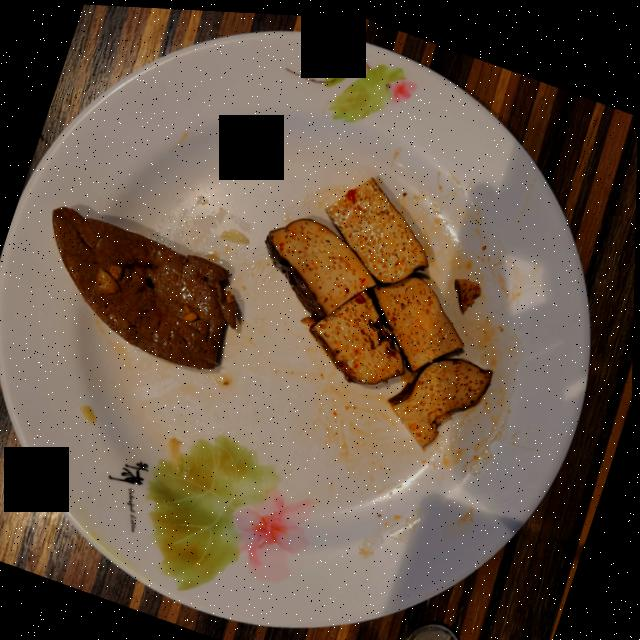coin: (408, 617, 463, 640)
firm tofu: (267, 174, 493, 441)
pig liver: (53, 206, 237, 366)
